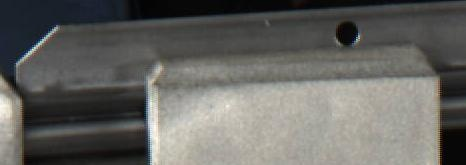cut: (17, 20, 142, 156)
holes: (334, 18, 361, 47)
